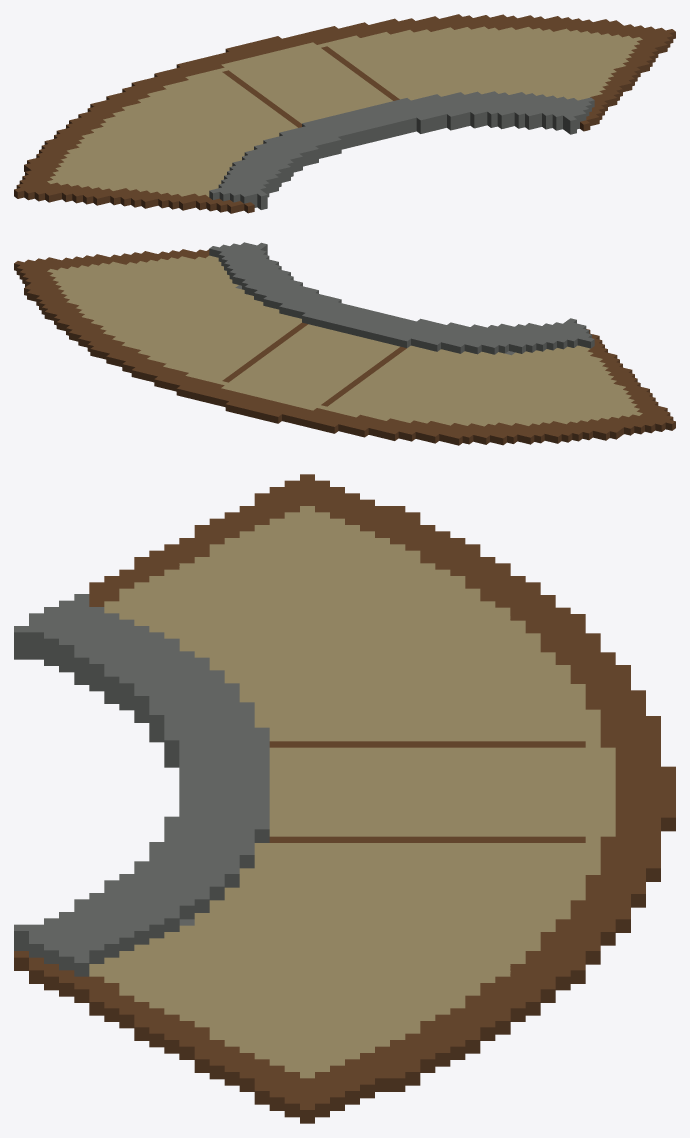
File: nape_protector.glb
3 views of the same model, one above another, from view 1: azimuth 30°, elevation 25°; view 2: azimuth 150°, elevation 25°; view 3: azimuth 270°, elevation 25° (orthographic). The views are drawn at different scales.
Visible parts, largest first — view 1: nape_protector:compound; view 2: nape_protector:compound; view 3: nape_protector:compound.
Boxes of the visible parts, x1,y1,x2,y2 form: nape_protector:compound: (14,14,675,213); nape_protector:compound: (14,242,675,445); nape_protector:compound: (14,474,675,1123).
Size of the model in its own units: 0.4 by 0.008 by 0.176.
